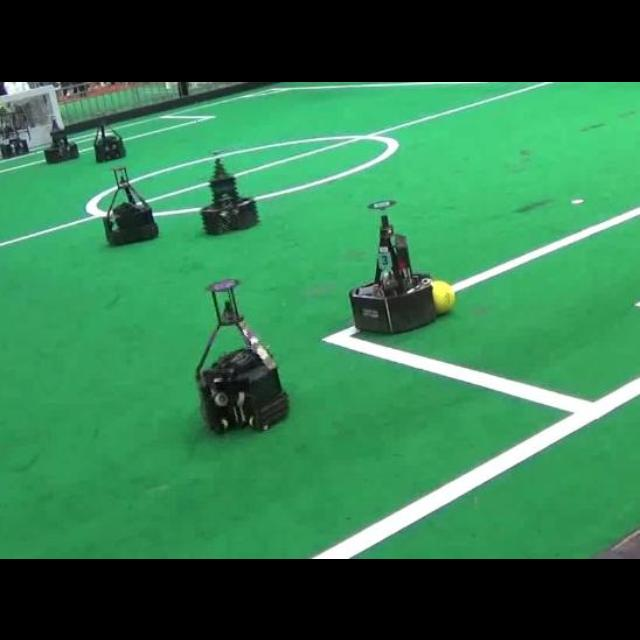ball: (431, 280, 454, 313)
robot: (196, 278, 287, 430), (350, 200, 436, 332), (102, 166, 159, 244), (201, 157, 257, 233), (44, 118, 78, 162), (94, 125, 126, 160), (0, 127, 28, 157)
